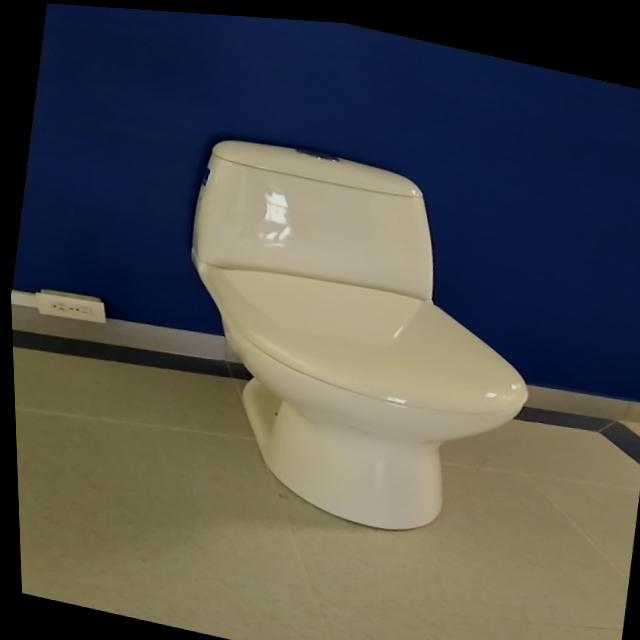toilet: (147, 120, 563, 554)
